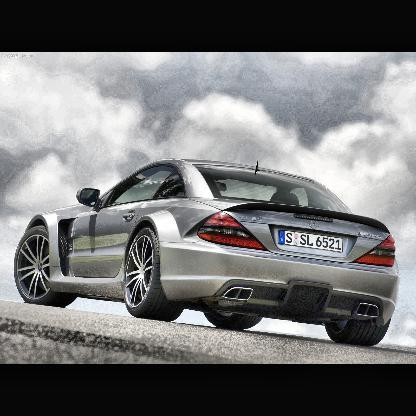Mercedes-Benz SL-Class Coupe 2009: (10, 157, 405, 352)
